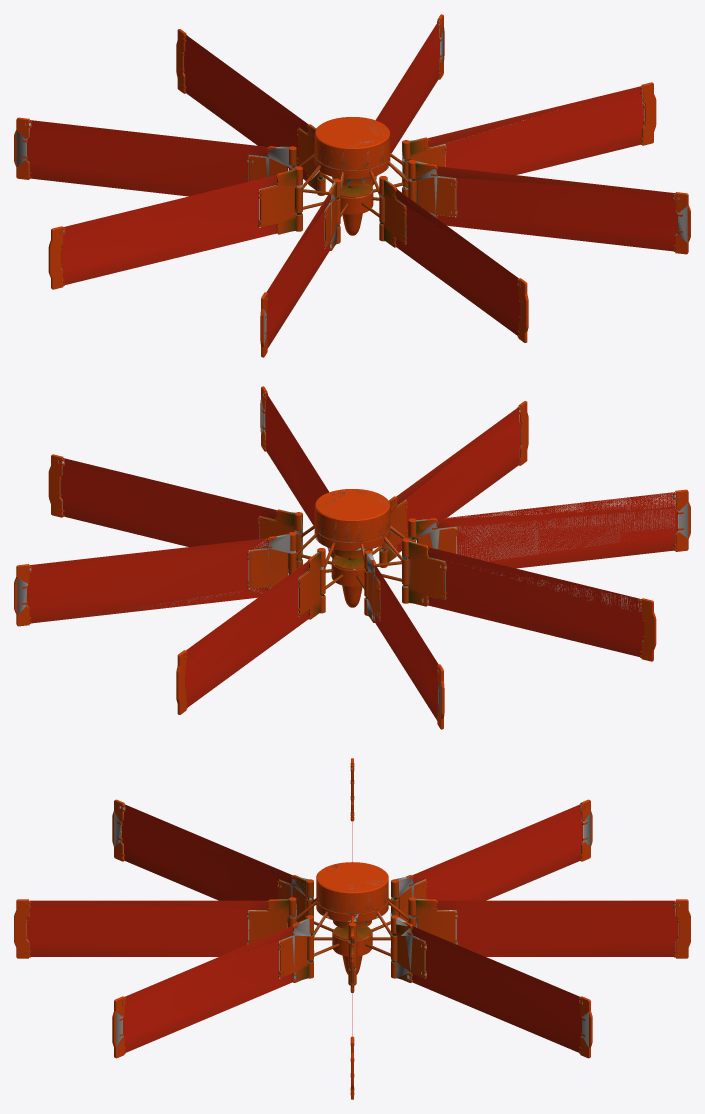
The model's file is KB3D_CSK_PropPropellerA_A.glb.
The picture shows the model from 3 angles, top to bottom: view 1: azimuth 30°, elevation 25°; view 2: azimuth 150°, elevation 25°; view 3: azimuth 270°, elevation 25°; orthographic projection. The views are drawn at different scales.
Parts seen in each view (by area): view 1: L0, L1, L2; view 2: L0, L1, L2; view 3: L0, L1, L2.
Part boxes in pixels (bbox=[...]): L0: bbox=[14, 14, 690, 357]; L1: bbox=[17, 16, 687, 348]; L2: bbox=[16, 20, 687, 345]; L0: bbox=[14, 386, 690, 729]; L1: bbox=[17, 388, 690, 720]; L2: bbox=[17, 392, 688, 717]; L0: bbox=[14, 758, 690, 1099]; L1: bbox=[17, 763, 690, 1054]; L2: bbox=[21, 767, 682, 1047].
Bounding box in the file's own units: 29.33 × 4.74 × 29.33.
